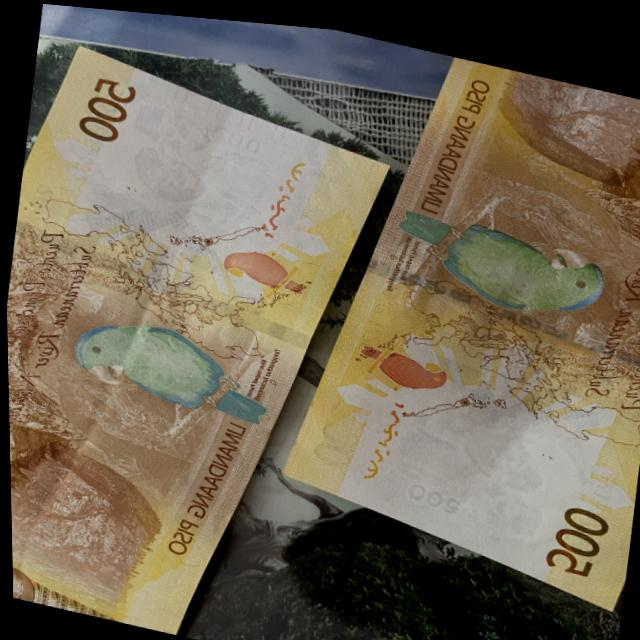500_big_parrot: (388, 195, 612, 323), (60, 300, 270, 436)
500_parrot_watermark: (220, 236, 315, 298), (353, 329, 447, 386)
value_watermark: (203, 117, 273, 151), (399, 470, 461, 508)
watermark: (353, 393, 584, 555), (101, 84, 279, 236)
